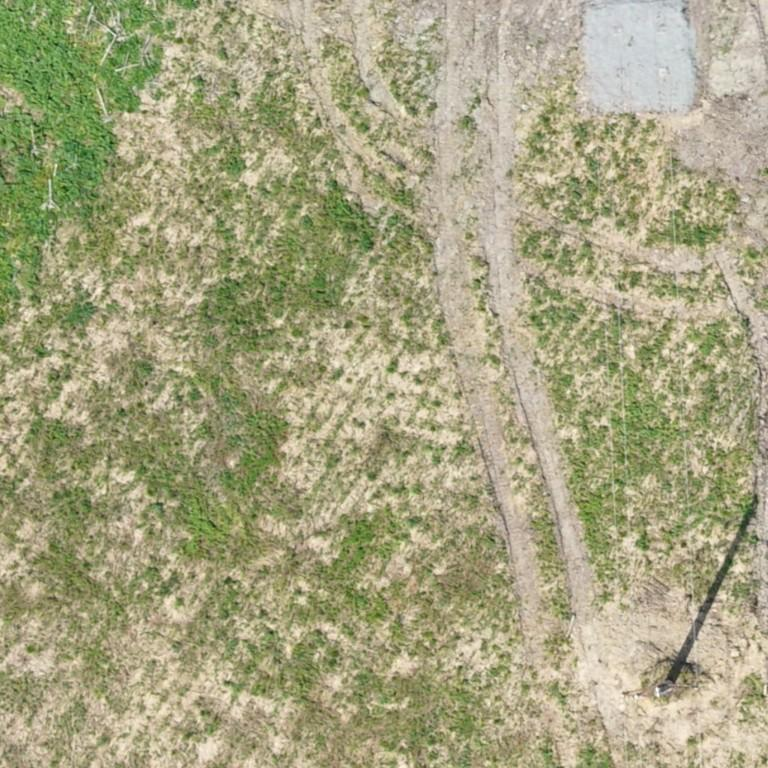hogweed: (0, 0, 162, 230)
